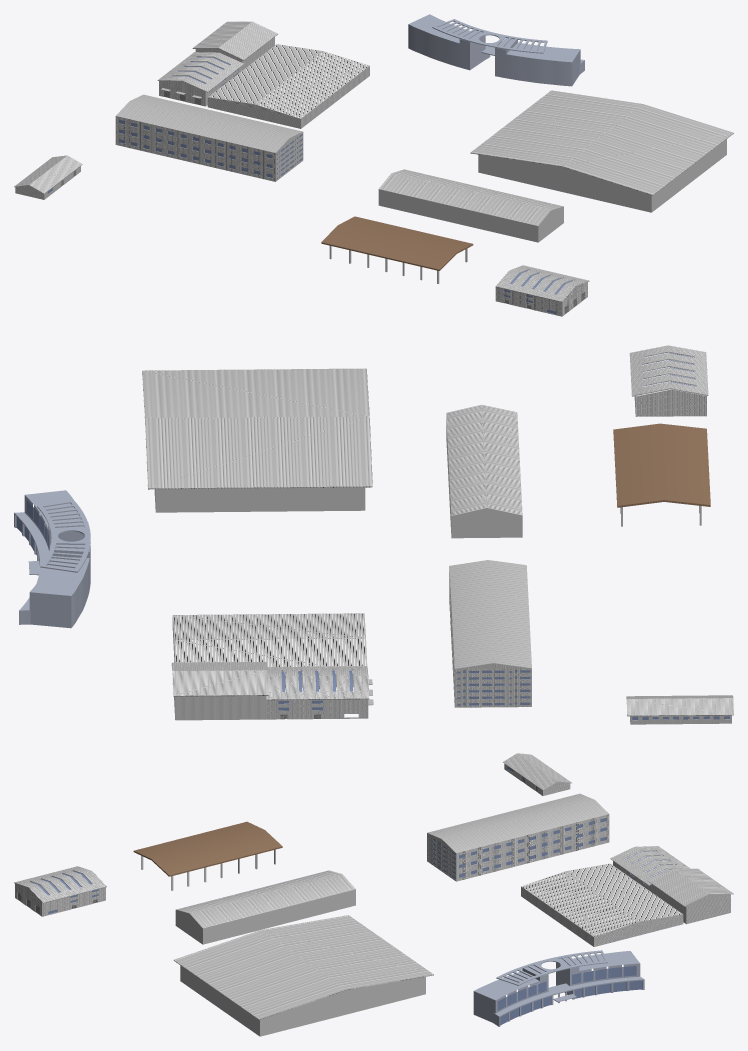
Rendered from beikai_dianqi.glb.
3 renders of one model, top to bottom at view 1: azimuth 30°, elevation 25°; view 2: azimuth 150°, elevation 25°; view 3: azimuth 270°, elevation 25°, orthographic. The views are drawn at different scales.
Parts seen in each view (by area): view 1: Material #54, 05 - Default, 01 - Default, 07 - Default, 04 - Default; view 2: Material #54, 01 - Default, 07 - Default, 05 - Default, 04 - Default; view 3: Material #54, 05 - Default, 01 - Default, 07 - Default, 04 - Default.
Boxes of the visible parts, x1,y1,x2,y2 form: Material #54: [14, 21, 733, 316]; 05 - Default: [160, 88, 726, 283]; 01 - Default: [408, 14, 584, 86]; 07 - Default: [321, 216, 473, 270]; 04 - Default: [47, 57, 572, 314]; Material #54: [142, 345, 733, 724]; 01 - Default: [14, 490, 90, 628]; 07 - Default: [613, 423, 710, 507]; 05 - Default: [154, 419, 701, 705]; 04 - Default: [16, 353, 729, 719]; Material #54: [14, 753, 733, 1020]; 05 - Default: [141, 849, 646, 1036]; 01 - Default: [473, 950, 644, 1026]; 07 - Default: [133, 821, 282, 876]; 04 - Default: [30, 766, 675, 1025].
Size of the model in its own units: 441 by 24 by 482.
8 materials, 4 textured.
